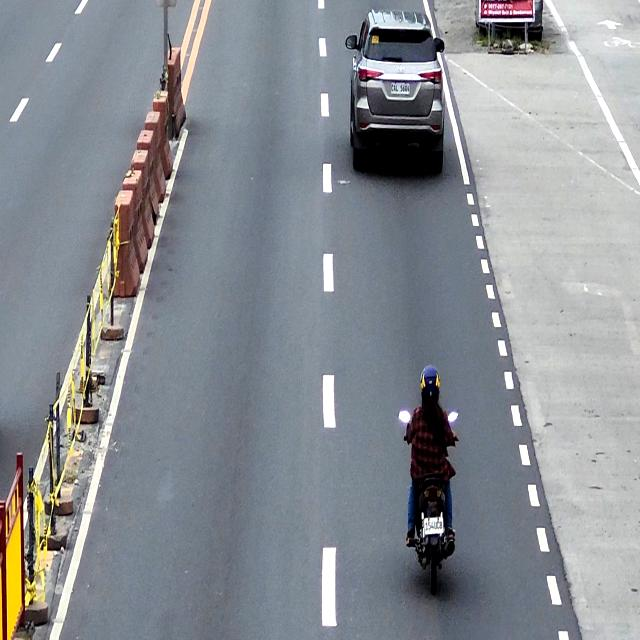Car: (345, 10, 445, 176)
License-Plate: (424, 518, 444, 534), (390, 82, 410, 94)
Motorcycle: (398, 411, 458, 596)
